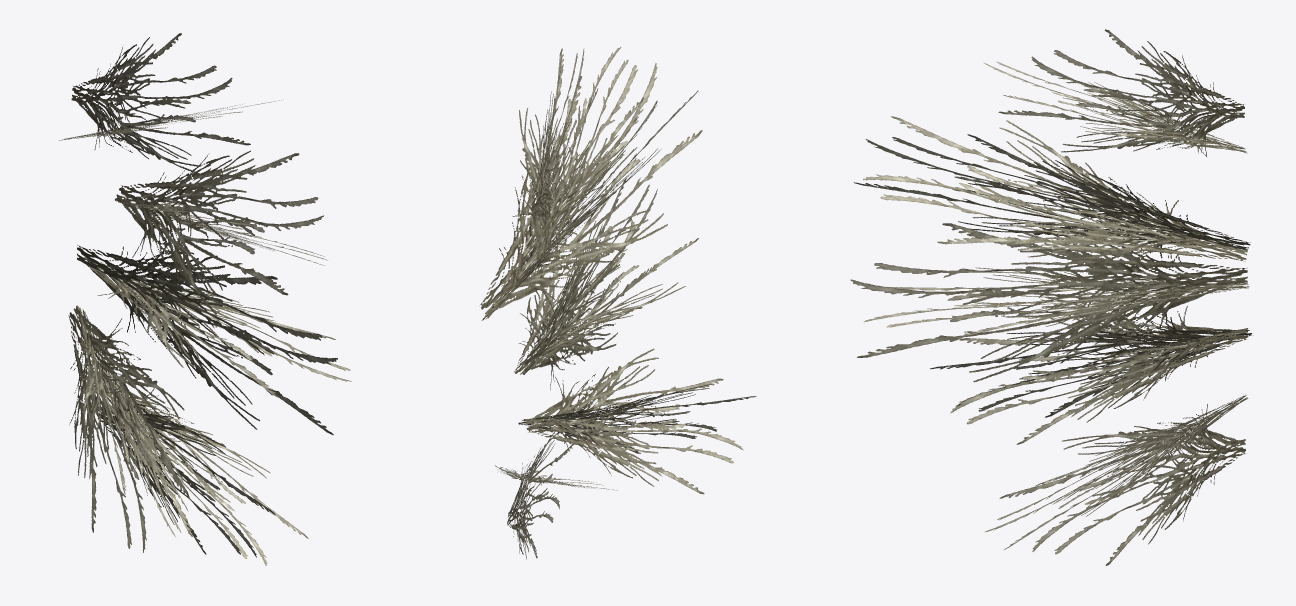
File: tdr_h_fern_a.obj
3 views of the same model, side by side, from view 1: azimuth 30°, elevation 25°; view 2: azimuth 150°, elevation 25°; view 3: azimuth 270°, elevation 25° (orthographic). The views are drawn at different scales.
Parts seen in each view (by area): view 1: tdr_h_fern_a, tdr_h_fern_a.001; view 2: tdr_h_fern_a, tdr_h_fern_a.001; view 3: tdr_h_fern_a, tdr_h_fern_a.001.
Part boxes in pixels (x1,y1,x2,y2): tdr_h_fern_a: [60, 33, 351, 565]; tdr_h_fern_a.001: [59, 104, 336, 565]; tdr_h_fern_a: [479, 47, 756, 559]; tdr_h_fern_a.001: [495, 47, 740, 558]; tdr_h_fern_a: [850, 29, 1251, 565]; tdr_h_fern_a.001: [851, 62, 1246, 564].
Bounding box in the file's own units: 356 × 749 × 556.
Materials: 1 (1 with a texture image).
